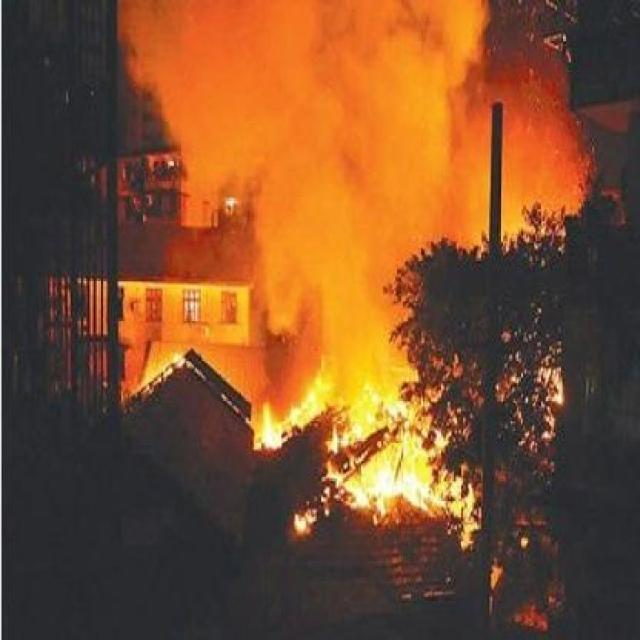Fire: (291, 366, 486, 547), (244, 387, 286, 457), (131, 352, 192, 394), (516, 583, 561, 638)
